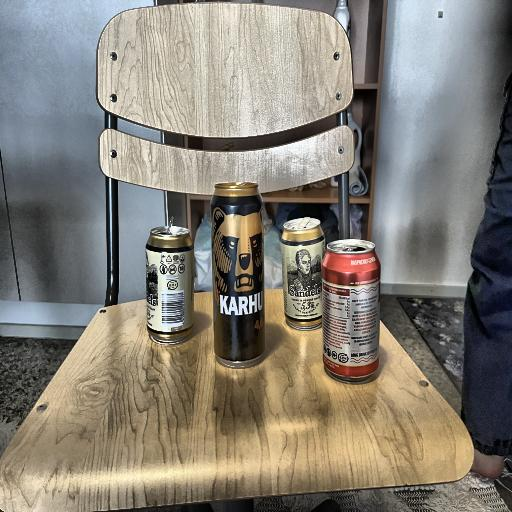karhu: (203, 176, 269, 369)
koff: (324, 237, 391, 381)
sandels: (141, 224, 197, 347), (275, 212, 321, 338)
